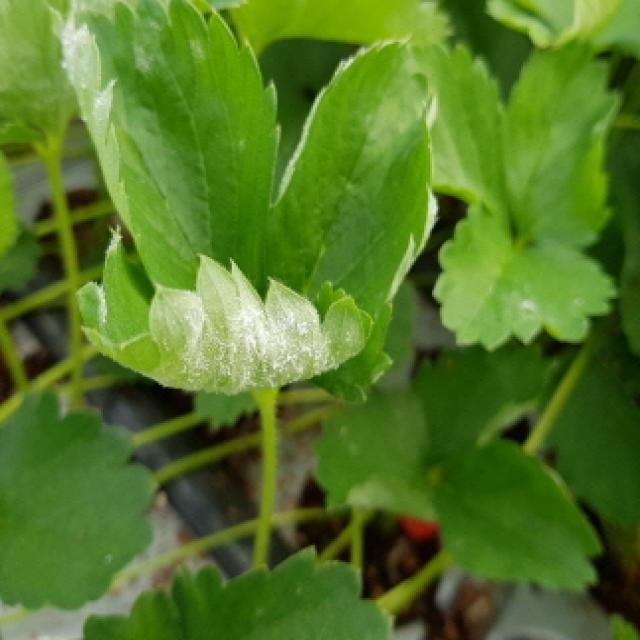Powdery Mildew Leaf: (46, 0, 283, 304), (267, 39, 440, 403), (72, 230, 377, 395), (429, 204, 618, 355)
